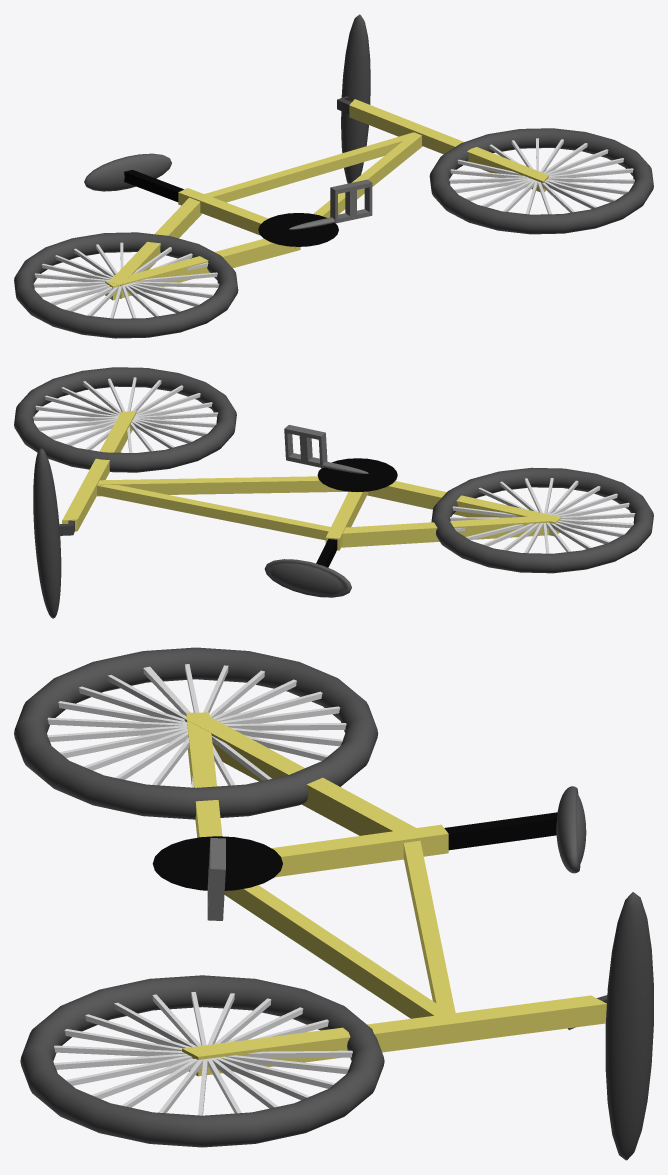
Rendered from Bike_Yellow.fbx.
The picture shows the model from 3 angles, top to bottom: view 1: azimuth 30°, elevation 25°; view 2: azimuth 150°, elevation 25°; view 3: azimuth 270°, elevation 25°; orthographic projection. The views are drawn at different scales.
Parts seen in each view (by area): view 1: pasted__pasted__pTorus1, pasted__pTorus1, pasted__pCube2 (×2), pSphere1, pCube3, pCube1, pDisc1, pSphere2, pasted__pCube1, pasted__pCube3, pCube2, pCube4; view 2: pasted__pTorus1, pasted__pasted__pTorus1, pSphere1, pCube3, pasted__pCube1, pasted__pCube3, pasted__pCube2 (×2), pSphere2, pCube1, pDisc1, pCube4, pCube2; view 3: pasted__pasted__pTorus1, pasted__pTorus1, pasted__pCube2 (×2), pSphere1, pasted__pasted__pasted__pasted__pasted__pasted__pasted__pCub (×10), pasted__pasted__pasted__pasted__pasted__pasted__pasted__past (×10), pasted__pCube3, pasted__pCube1, pCube2, pDisc1, pCube3, pCube1 (+2 smaller).
Part boxes in pixels (left/top/right/bottom): pasted__pasted__pTorus1: left=429, top=128, right=653, bottom=234; pasted__pTorus1: left=14, top=232, right=238, bottom=338; pasted__pCube2 (×2): left=124, top=99, right=548, bottom=201; pSphere1: left=341, top=14, right=370, bottom=183; pCube3: left=204, top=132, right=413, bottom=202; pCube1: left=105, top=239, right=300, bottom=300; pDisc1: left=258, top=213, right=338, bottom=246; pSphere2: left=84, top=153, right=171, bottom=191; pasted__pCube1: left=108, top=197, right=202, bottom=298; pasted__pCube3: left=295, top=132, right=422, bottom=248; pCube2: left=178, top=188, right=268, bottom=235; pCube4: left=330, top=179, right=372, bottom=223; pasted__pTorus1: left=431, top=467, right=653, bottom=573; pasted__pasted__pTorus1: left=14, top=367, right=236, bottom=472; pSphere1: left=33, top=448, right=61, bottom=618; pCube3: left=97, top=485, right=330, bottom=540; pasted__pCube1: left=341, top=515, right=555, bottom=547; pasted__pCube3: left=97, top=476, right=346, bottom=496; pasted__pCube2 (×2): left=62, top=411, right=337, bottom=567; pSphere2: left=264, top=559, right=351, bottom=597; pCube1: left=367, top=481, right=561, bottom=536; pDisc1: left=317, top=458, right=397, bottom=492; pCube4: left=284, top=425, right=327, bottom=467; pCube2: left=325, top=491, right=368, bottom=550; pasted__pasted__pTorus1: left=20, top=975, right=384, bottom=1147; pasted__pTorus1: left=14, top=647, right=378, bottom=819; pasted__pCube2 (×2): left=182, top=812, right=606, bottom=1076; pSphere1: left=605, top=892, right=653, bottom=1160; pasted__pasted__pasted__pasted__pasted__pasted__pasted__pCub (×10): left=47, top=686, right=346, bottom=770; pasted__pasted__pasted__pasted__pasted__pasted__pasted__past (×10): left=54, top=1014, right=352, bottom=1100; pasted__pCube3: left=224, top=885, right=450, bottom=1018; pasted__pCube1: left=184, top=713, right=415, bottom=835; pCube2: left=271, top=824, right=448, bottom=877; pDisc1: left=152, top=836, right=282, bottom=890; pCube3: left=403, top=840, right=455, bottom=1013; pCube1: left=186, top=712, right=222, bottom=837.
Bounding box in the file's own units: 21.39 × 5.7 × 11.98.
